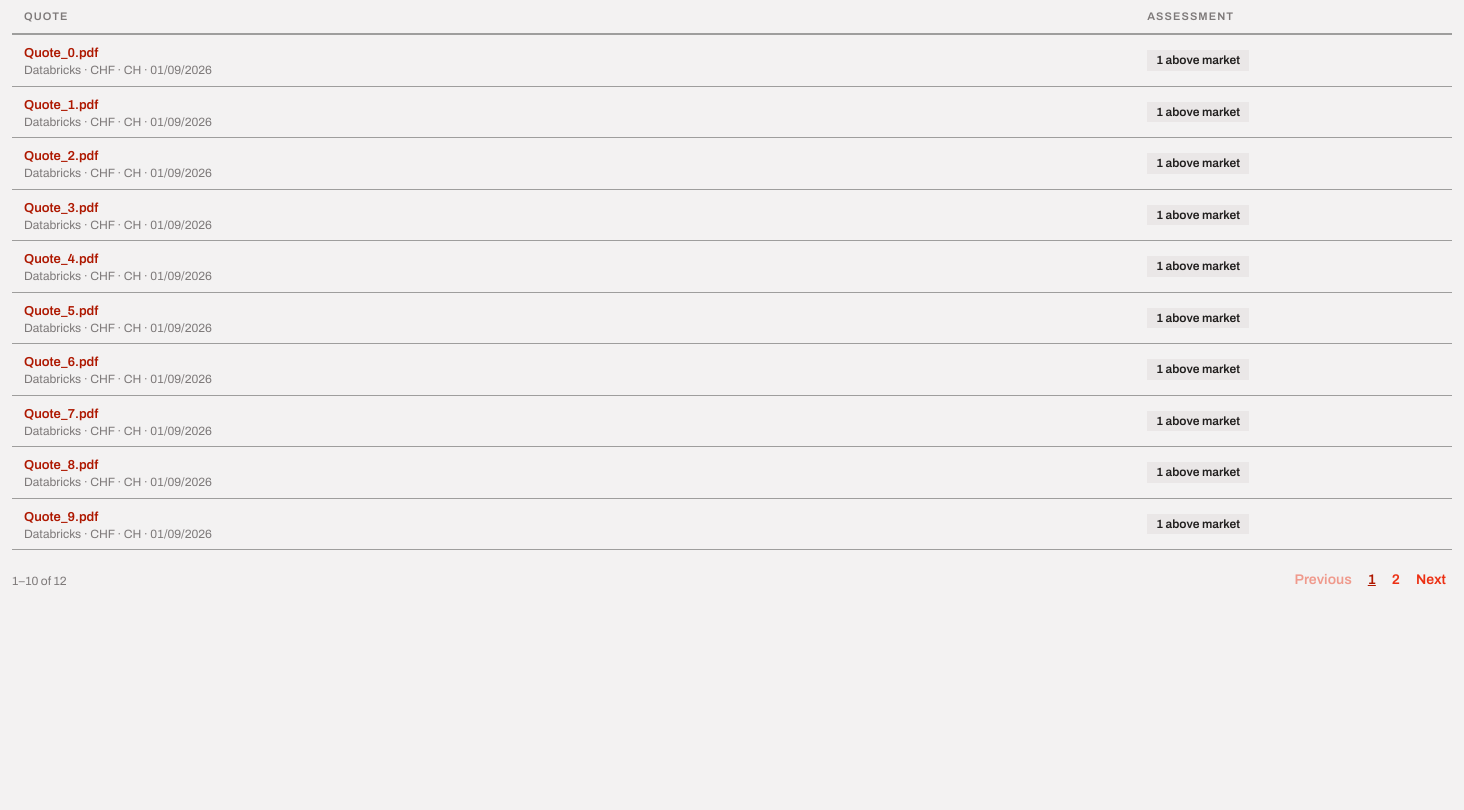
Test: QuoteHistoryList › defaults to 10 rows and pages the rest
Expected: the link "Quote_0.pdf" is shown, [24, 46, 98, 60]
Expected: the link "Quote_10.pdf" is not shown
Click the button "Next" at (1431,581), box [1410, 562, 1452, 599]
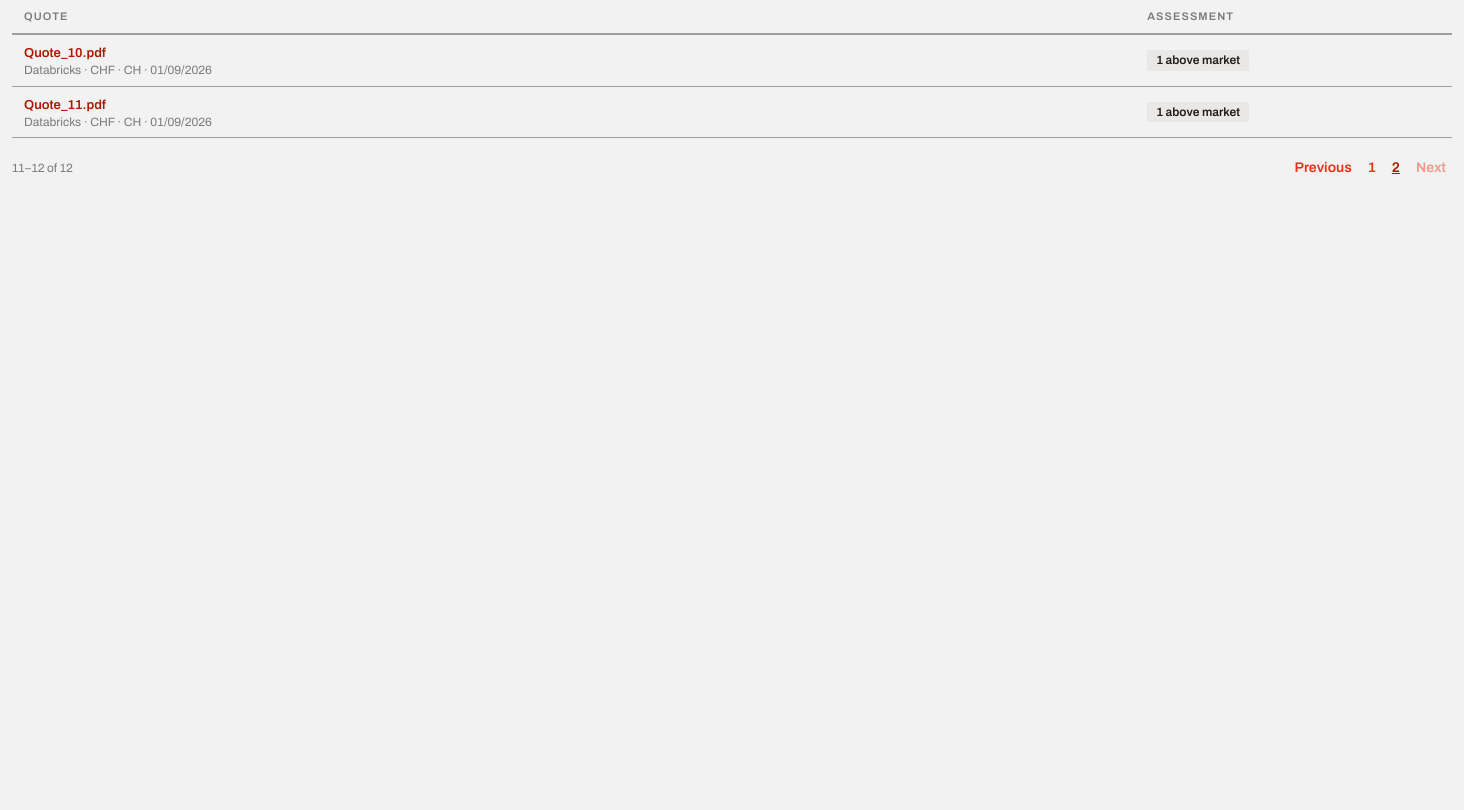
Result: the link "Quote_10.pdf" is shown at [24, 46, 106, 60]
Result: the link "Quote_0.pdf" is gone
